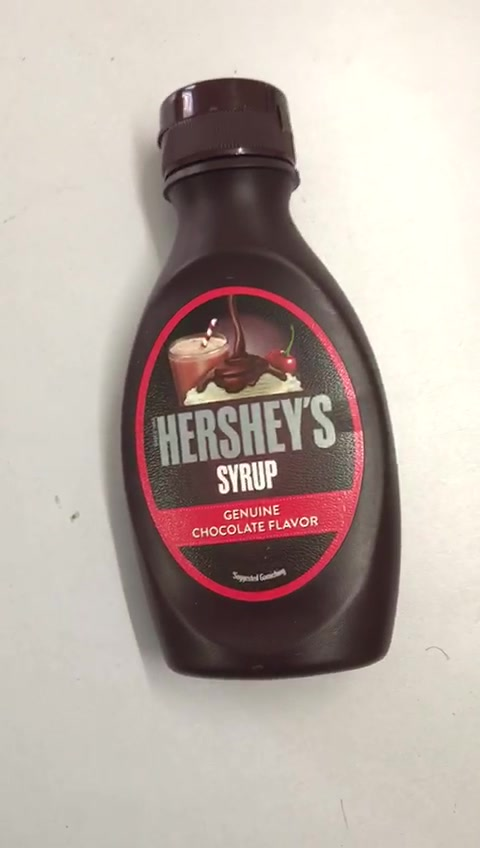hershey: (115, 77, 406, 683)
